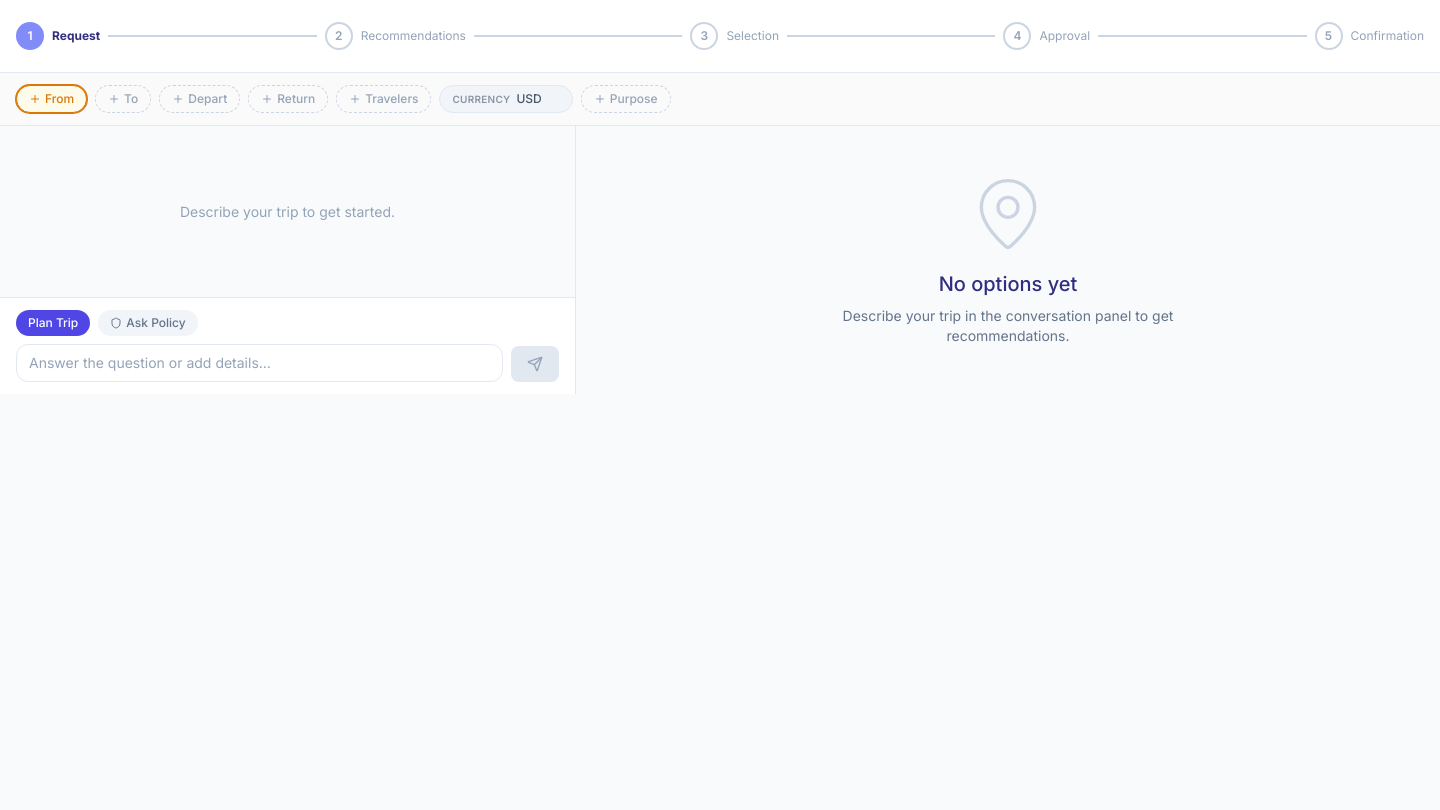
PlannerScreen (plan mode) › fills chips from the message and shows the clarify question once
Type "Fly to New York next Tuesday for 3 days, client meeting" into the text box named "Message input".
click(260, 363); type("Fly to New York next Tuesday for 3 days, client meeting")  # box [16,344,503,382]
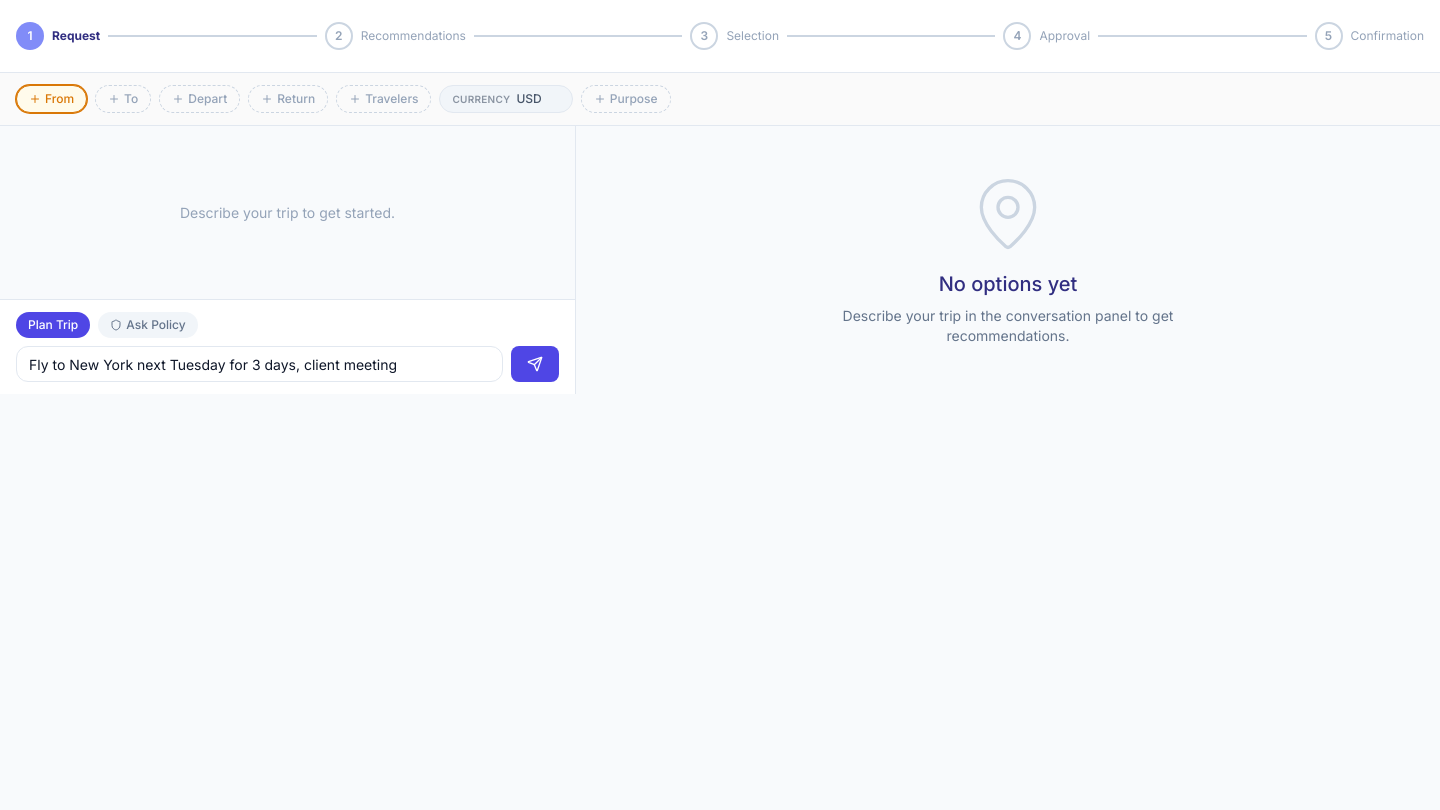
Press Enter in the text box named "Message input", box [16,346,503,382]
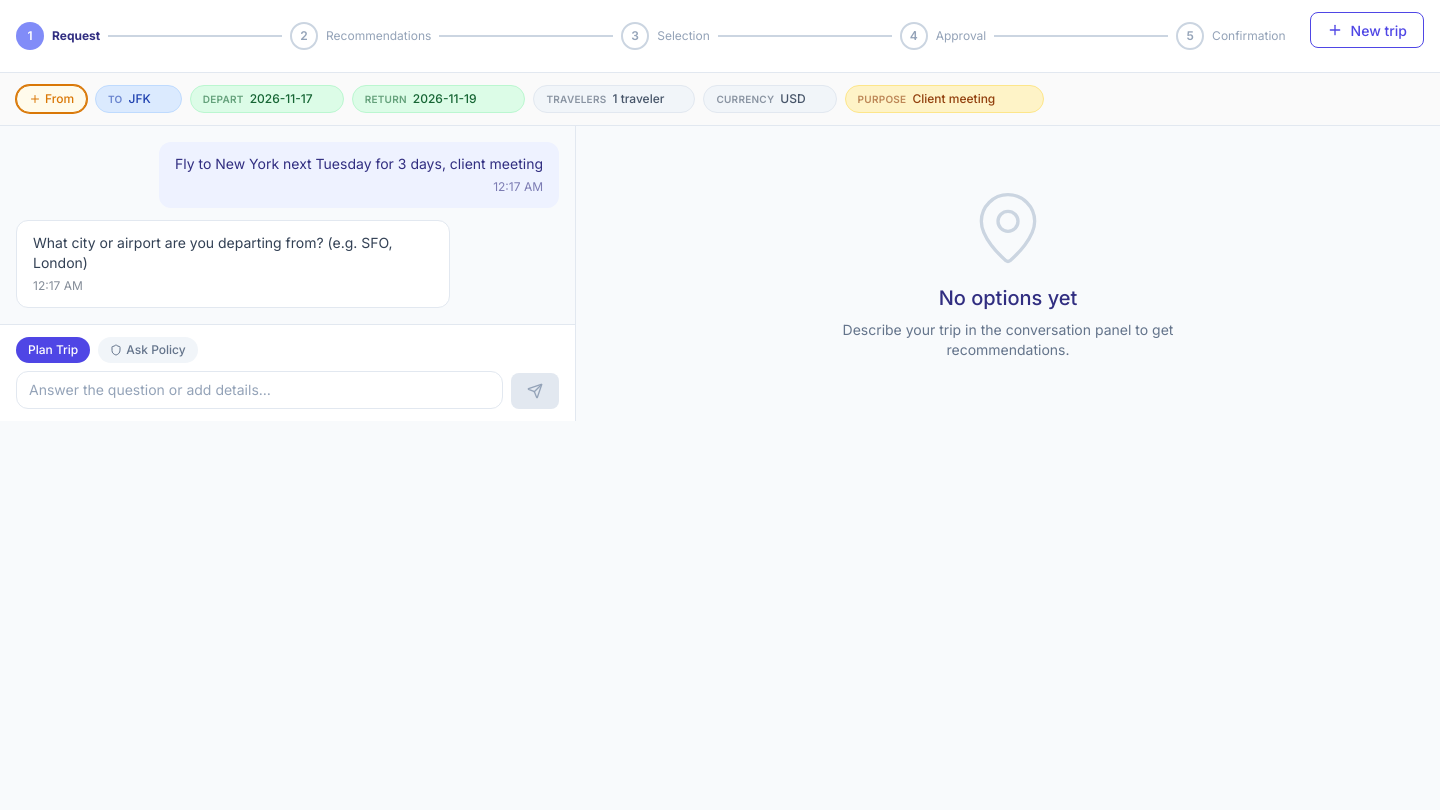
Check: the text "JFK" is shown, box [129,90,151,108]
Check: the text "What city or airport are you departing from? (e.g. SFO, London)" is shown once, box [33,233,433,273]
Check: the text "Client meeting" is shown, box [912,90,995,108]
Type "Chicago (ORD)" into the text box named "Message input".
click(260, 390); type("Chicago (ORD)")  # box [16,371,503,409]
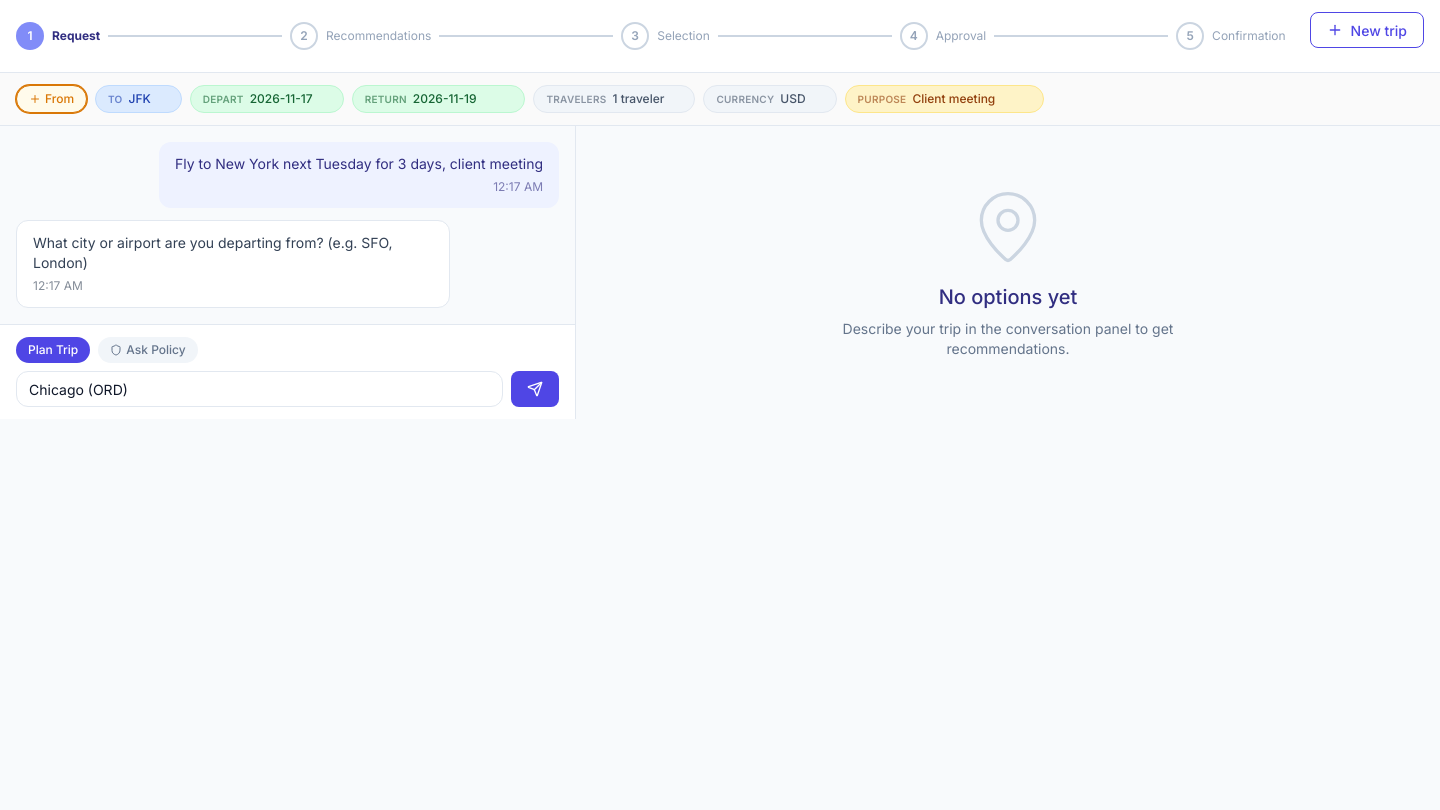
Press Enter in the text box named "Message input", box [16,371,503,407]
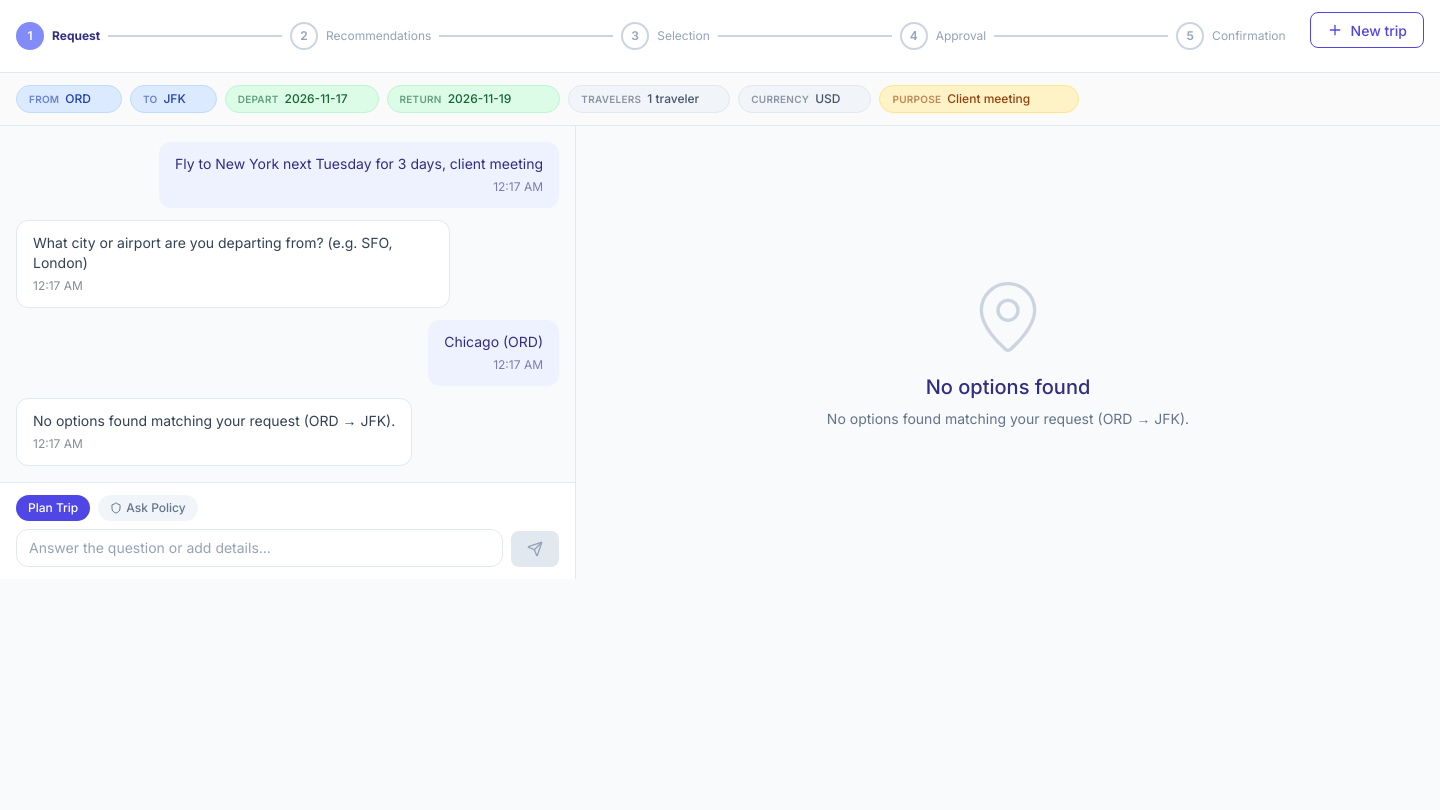
Check: the text "JFK" is shown, box [163,90,186,108]
Check: the text "ORD" is shown, box [65,90,91,108]
Check: the text "No options found matching your request (ORD → JFK)." below "Chicago (ORD)" is shown, box [33,412,395,429]
